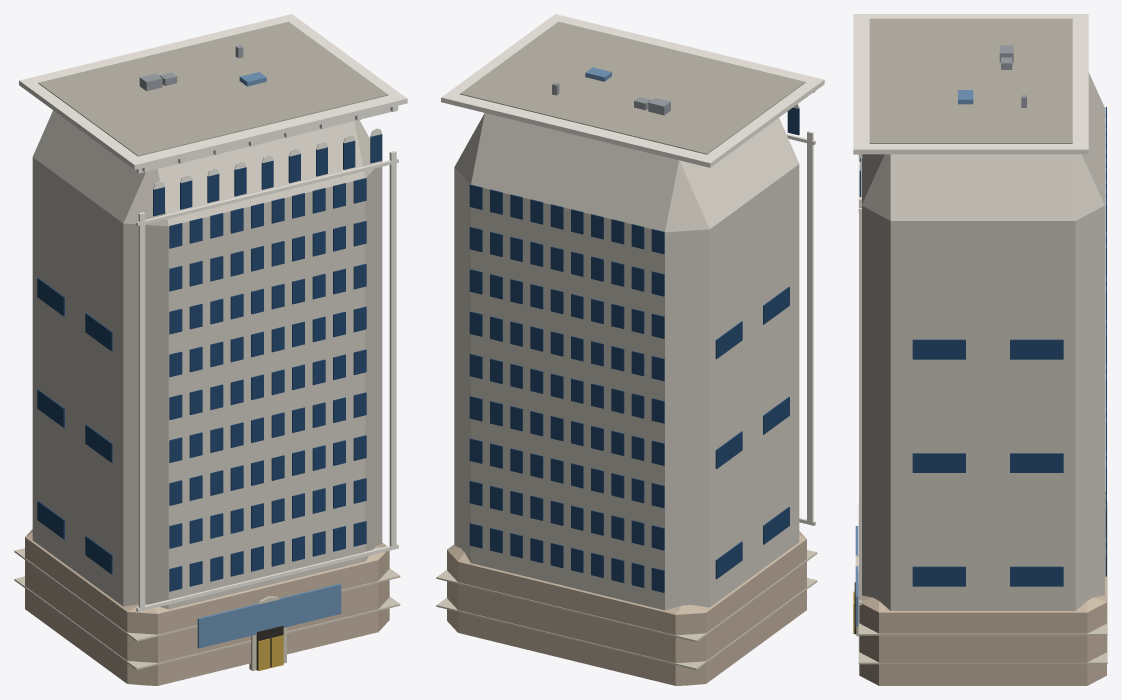
The model's file is office_f12_punched_w24.glb.
The picture shows the model from 3 angles, left to right: view 1: azimuth 30°, elevation 25°; view 2: azimuth 150°, elevation 25°; view 3: azimuth 270°, elevation 25°; orthographic projection. The views are drawn at different scales.
Visible parts, largest first — view 1: walls, roofslab, base, corn, baseglass, qpier, qpier.001, belt2, belt1, rustband, frieze, rustband.001; view 2: walls, base, roofslab, corn, qpier, rustband, rustband.001; view 3: walls, roofslab, base, corn, qpier.001, rustband.001, sb.003, sb.011, sb.001, sb.009, sb.005, sb.007 (+1 smaller).
Part boxes in pixels (x1=…): walls: x1=32, y1=110, x2=382, y2=609; roofslab: x1=38, y1=21, x2=388, y2=156; base: x1=25, y1=529, x2=389, y2=685; corn: x1=19, y1=14, x2=407, y2=169; baseglass: x1=197, y1=583, x2=341, y2=648; qpier: x1=138, y1=212, x2=145, y2=611; qpier.001: x1=389, y1=151, x2=396, y2=546; belt2: x1=136, y1=158, x2=398, y2=226; belt1: x1=136, y1=544, x2=398, y2=611; rustband: x1=14, y1=576, x2=400, y2=669; frieze: x1=136, y1=106, x2=398, y2=173; rustband.001: x1=14, y1=548, x2=400, y2=641; walls: x1=454, y1=113, x2=799, y2=610; base: x1=447, y1=531, x2=806, y2=685; roofslab: x1=460, y1=21, x2=805, y2=154; corn: x1=441, y1=14, x2=824, y2=167; qpier: x1=807, y1=131, x2=813, y2=525; rustband: x1=436, y1=578, x2=817, y2=669; rustband.001: x1=436, y1=550, x2=817, y2=642; walls: x1=862, y1=72, x2=1104, y2=610; roofslab: x1=869, y1=18, x2=1072, y2=143; base: x1=859, y1=491, x2=1106, y2=685; corn: x1=853, y1=14, x2=1088, y2=154; qpier.001: x1=859, y1=197, x2=861, y2=600; rustband.001: x1=858, y1=503, x2=1107, y2=635; sb.003: x1=1010, y1=566, x2=1063, y2=586; sb.011: x1=1010, y1=339, x2=1063, y2=359; sb.001: x1=912, y1=566, x2=965, y2=586; sb.009: x1=912, y1=339, x2=965, y2=359; sb.005: x1=912, y1=453, x2=965, y2=472; sb.007: x1=1010, y1=453, x2=1063, y2=472.
Bounding box in the file's own units: 25.3 × 48.5 × 20.08.
